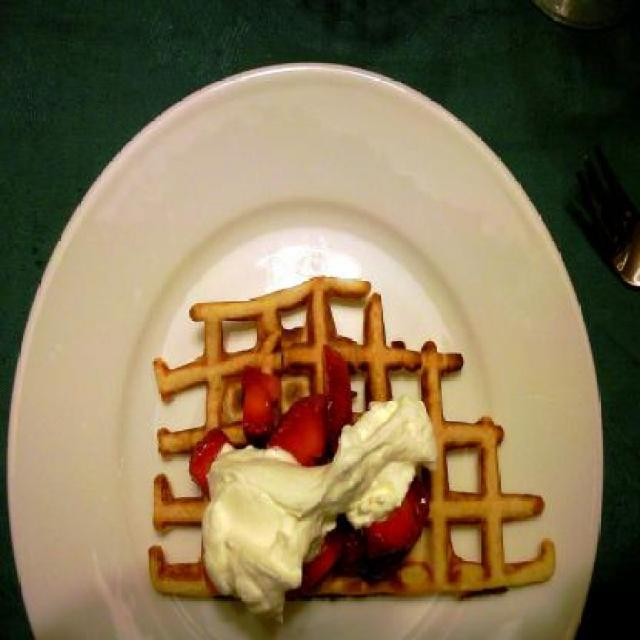Waffle: (142, 272, 562, 600)
